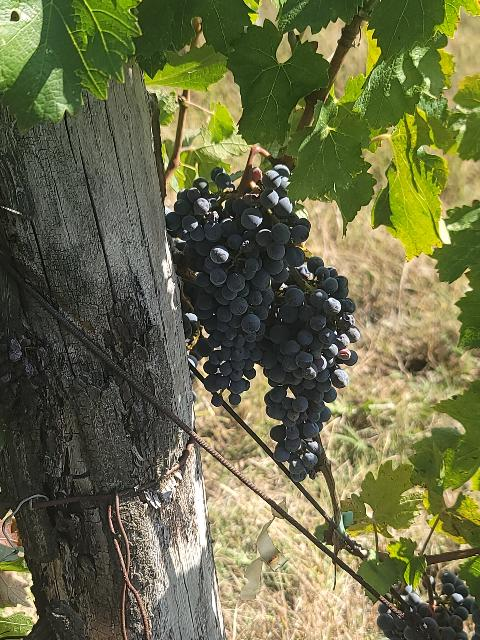grapes: (166, 165, 306, 401), (261, 258, 360, 481), (376, 571, 479, 640)
